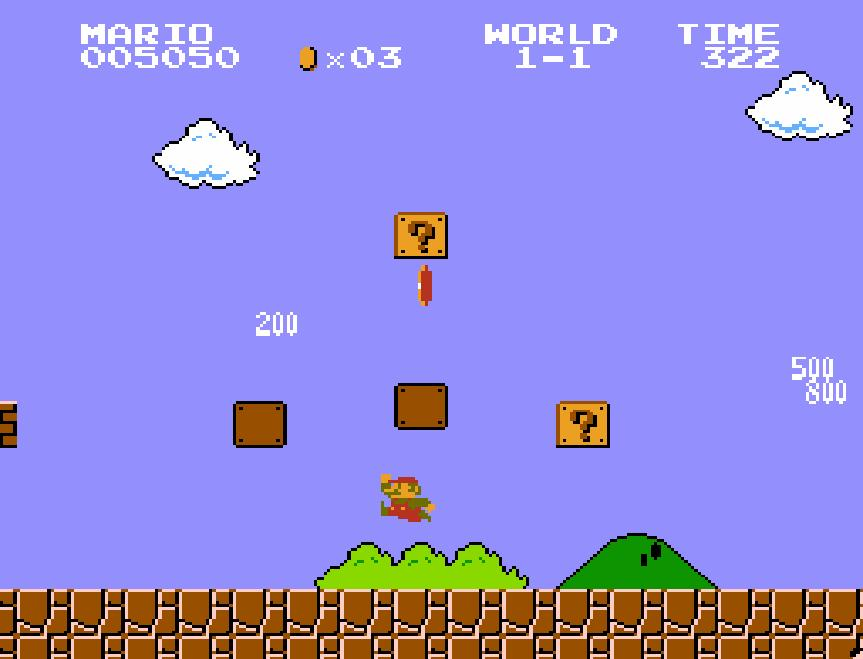little_mario: (379, 473, 437, 523)
